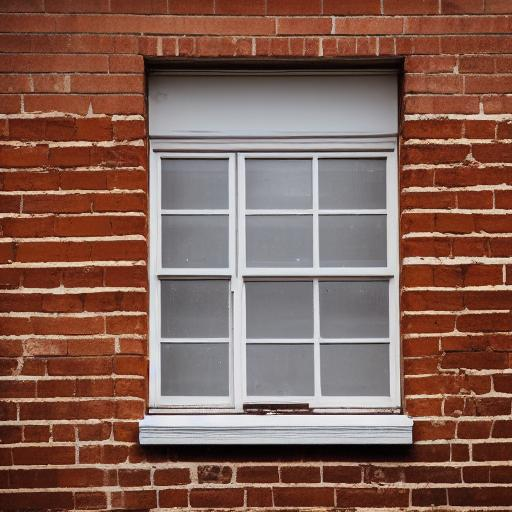Window: (137, 54, 417, 448)
